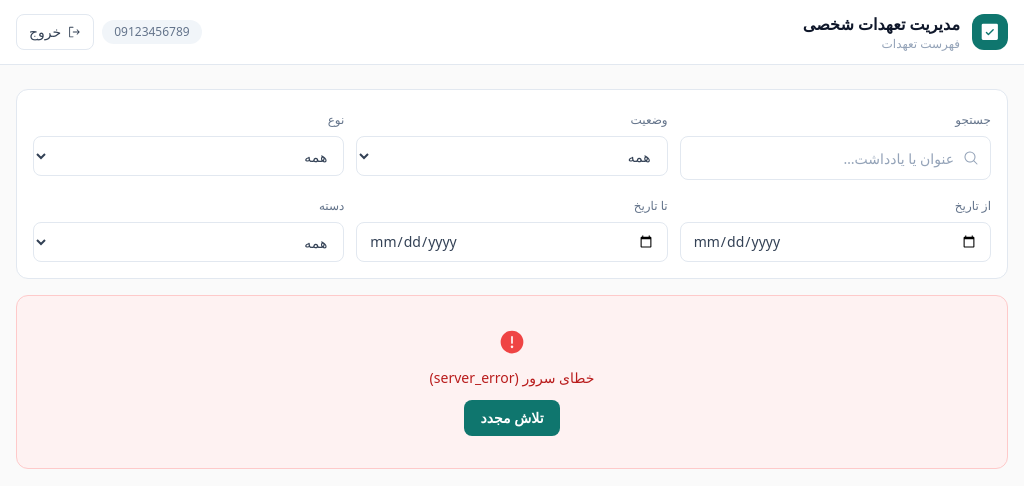
ObligationsListPage › shows an error state with retry that refetches after recovery
expect the message shows "خطای سرور": met, box x1=430 y1=368 x2=594 y2=387
expect the message shows "server_error": met, box x1=430 y1=368 x2=594 y2=387
Click the button "تلاش مجدد".
click(512, 418)  # box x1=464 y1=400 x2=560 y2=436
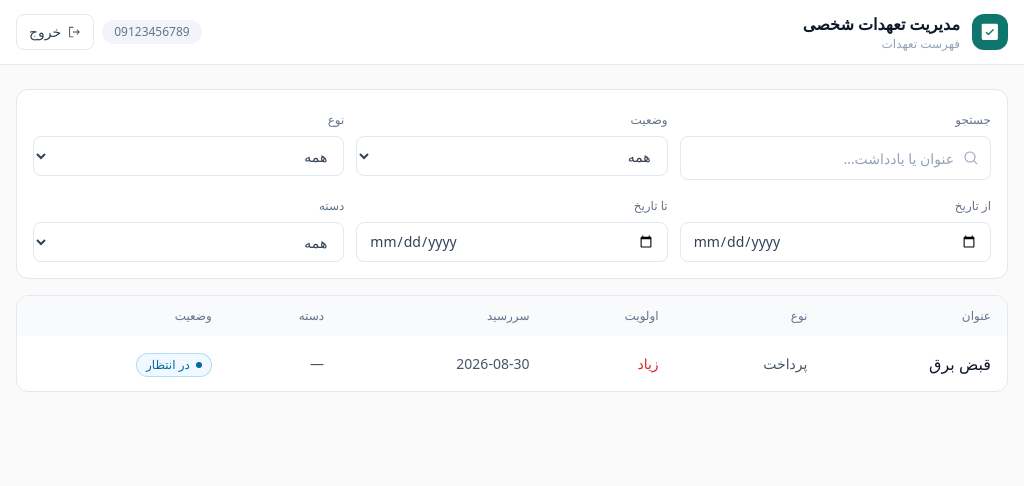
expect the table is shown: met, box x1=17 y1=296 x2=1007 y2=391
